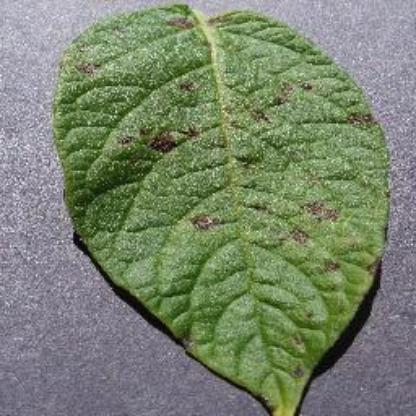Early-Blight: (50, 5, 398, 403)
